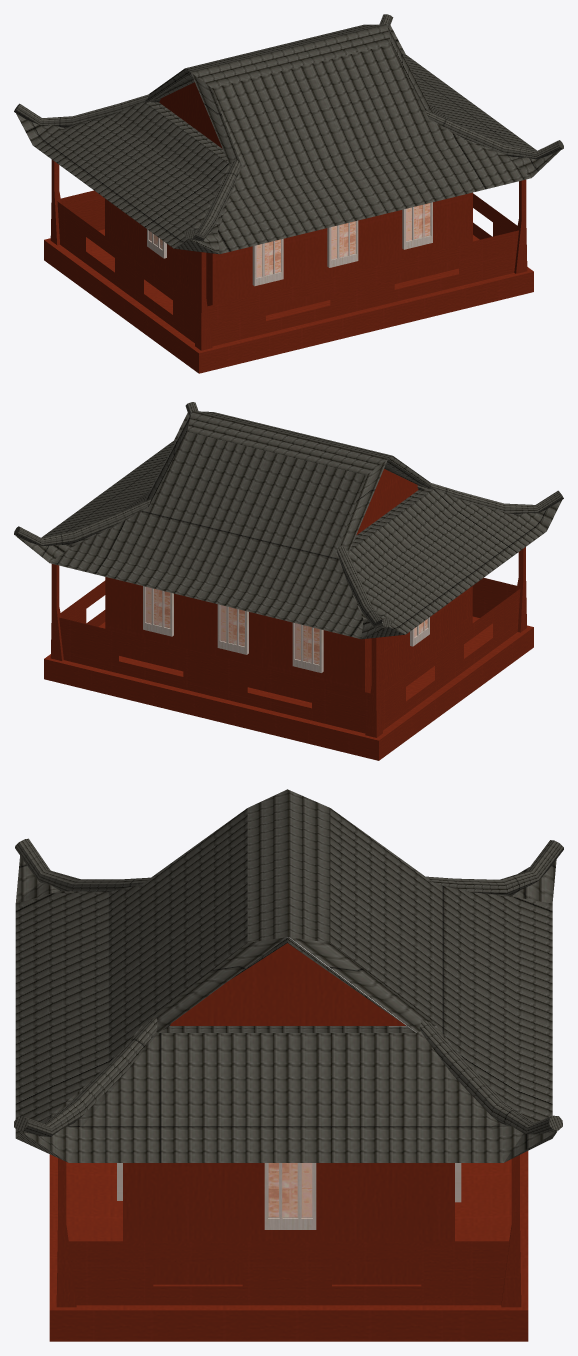
The model's file is castle_4.fbx.
3 renders of one model, top to bottom at view 1: azimuth 30°, elevation 25°; view 2: azimuth 150°, elevation 25°; view 3: azimuth 270°, elevation 25°, orthographic. The views are drawn at different scales.
Visible parts, largest first — view 1: castle_5; view 2: castle_5; view 3: castle_5.
Part boxes in pixels (x1,y1,x2,y2): castle_5: (14, 14, 563, 373); castle_5: (14, 402, 563, 760); castle_5: (14, 789, 563, 1341).
Size of the model in its own units: 2.15 by 1.24 by 1.76.
